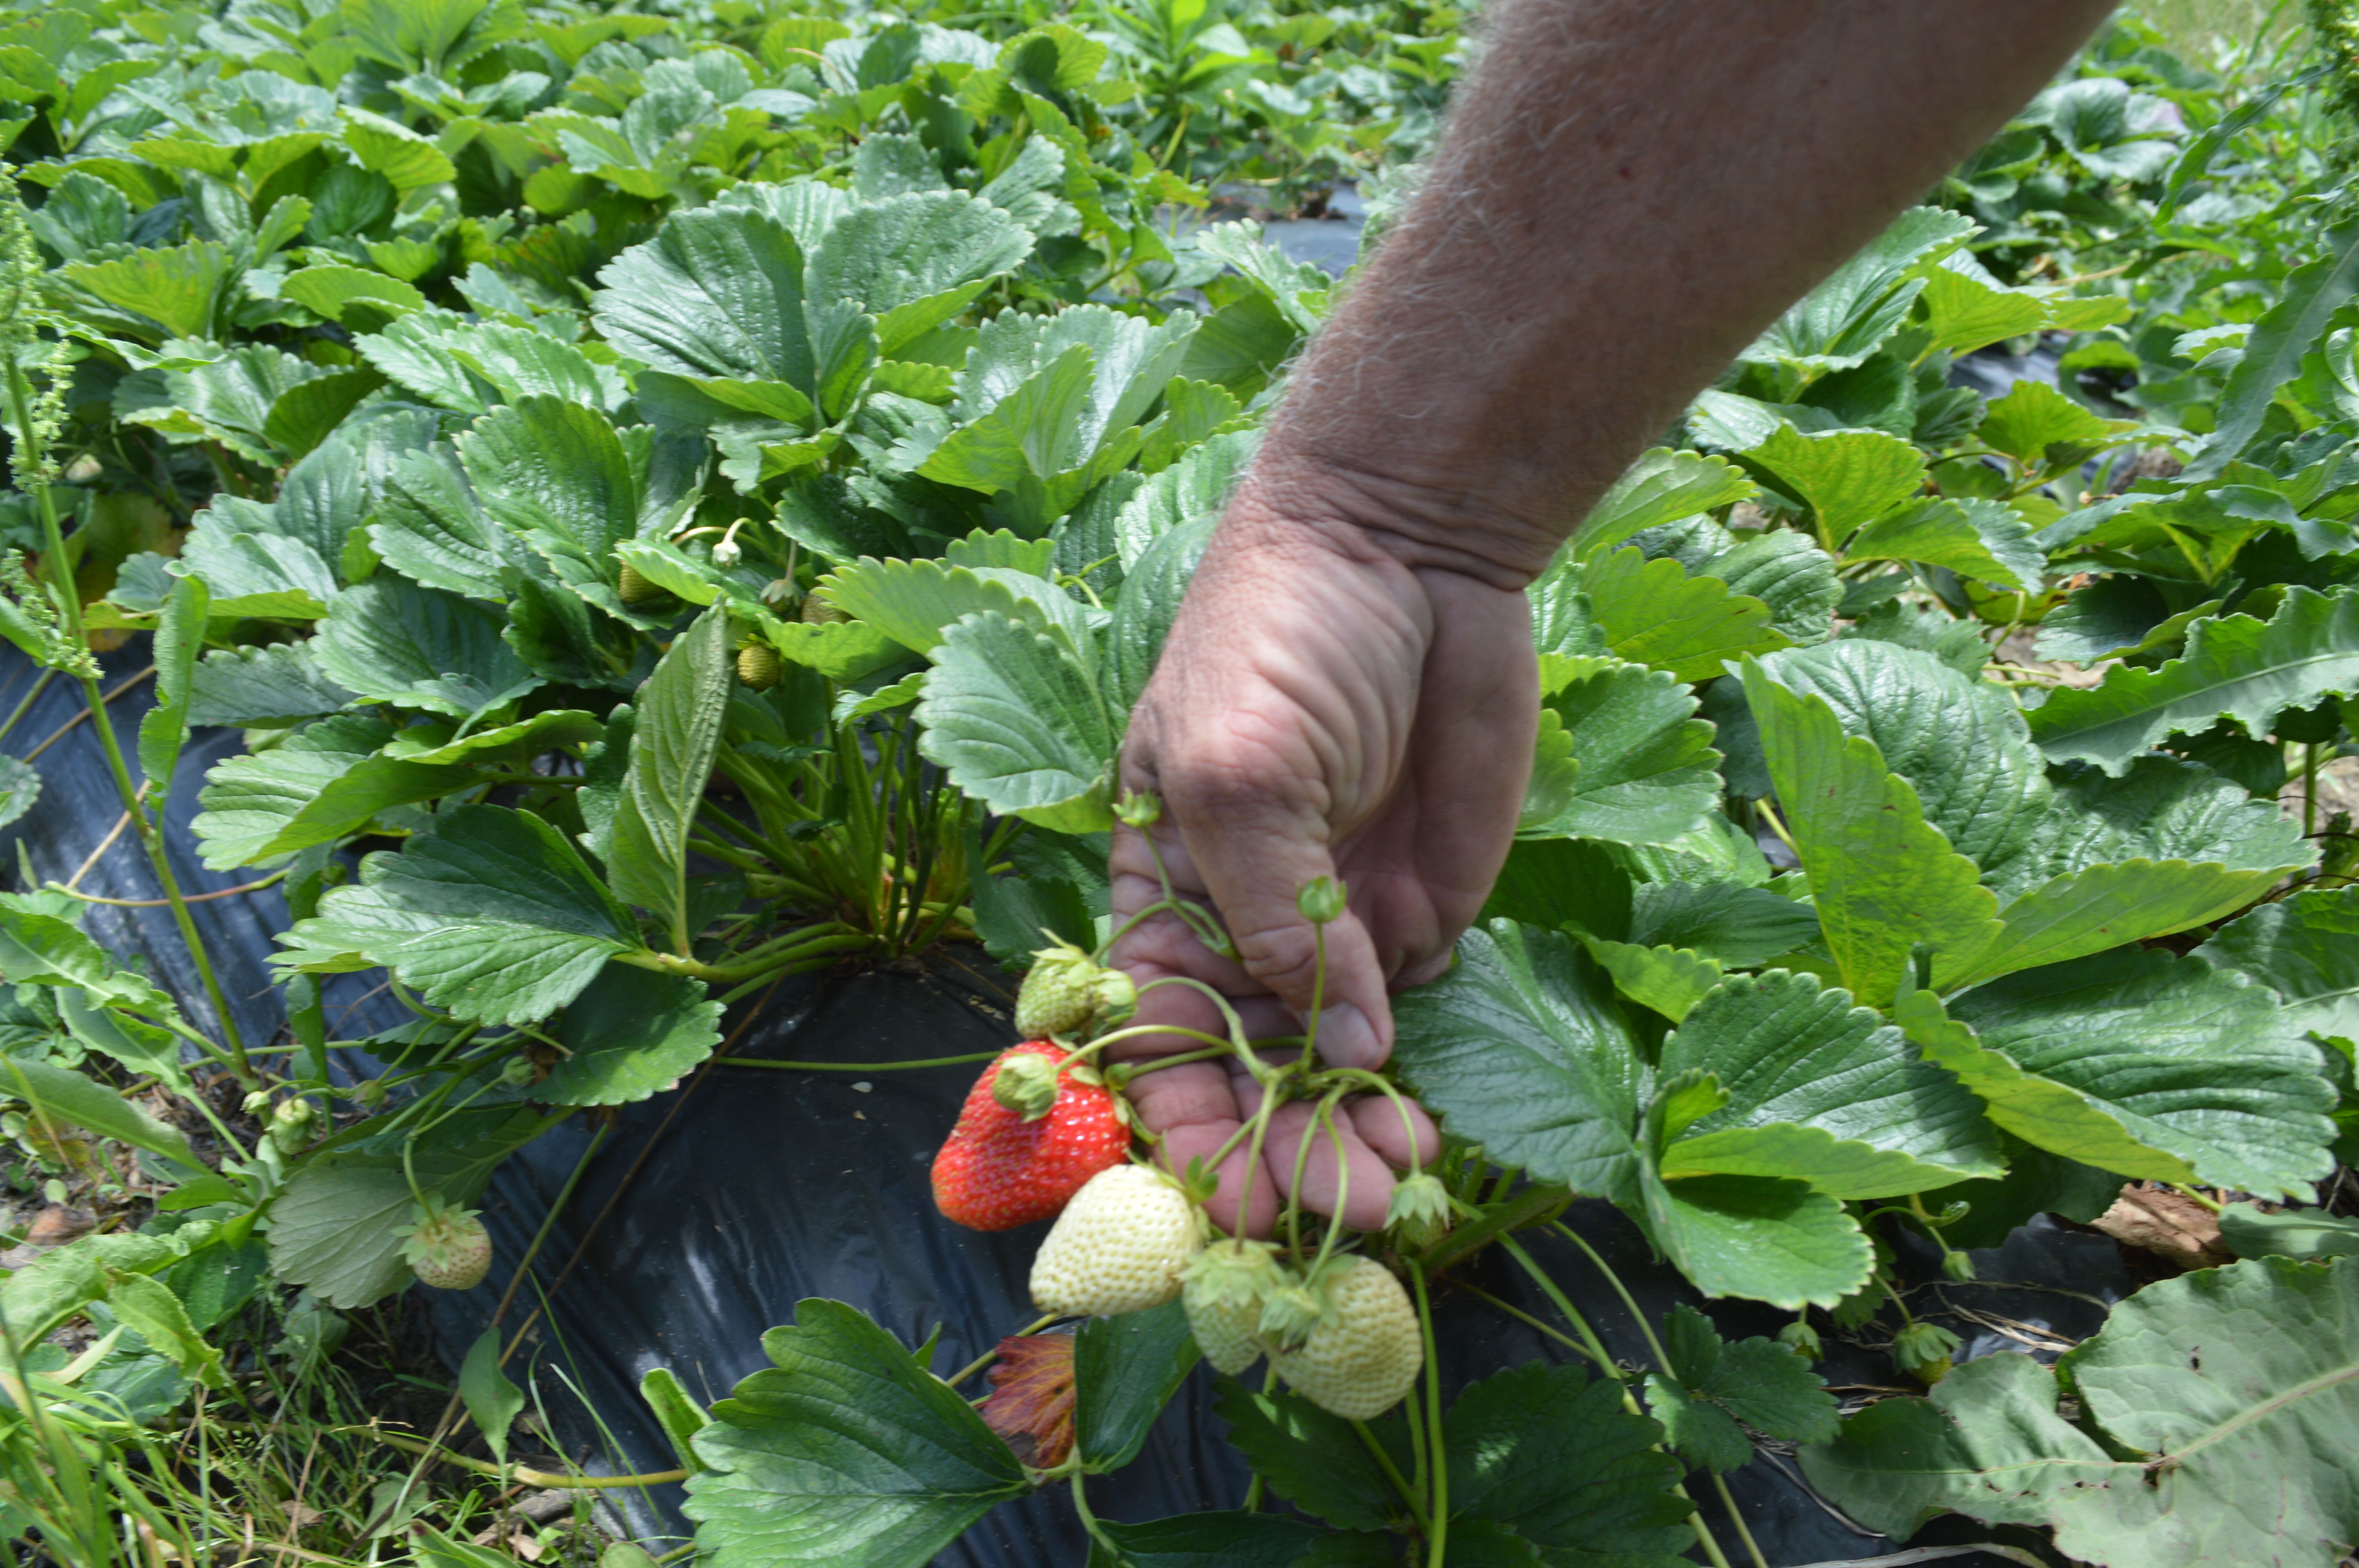ripe_strawberry: (926, 1041, 1130, 1237)
unripe_strawberry: (1260, 1248, 1428, 1431), (1024, 1160, 1213, 1323), (1178, 1235, 1286, 1381), (1010, 943, 1104, 1043), (404, 1202, 497, 1293), (1395, 1174, 1456, 1249), (1900, 1326, 1955, 1391), (737, 641, 782, 693)
